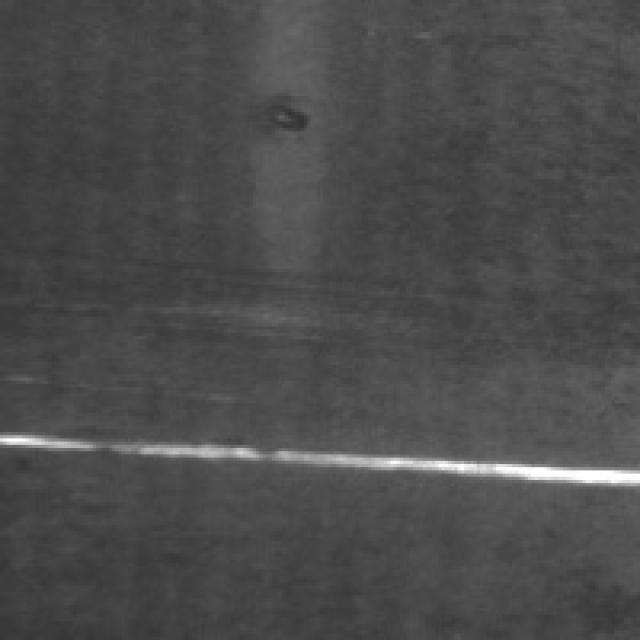scratches: (9, 416, 634, 486)
